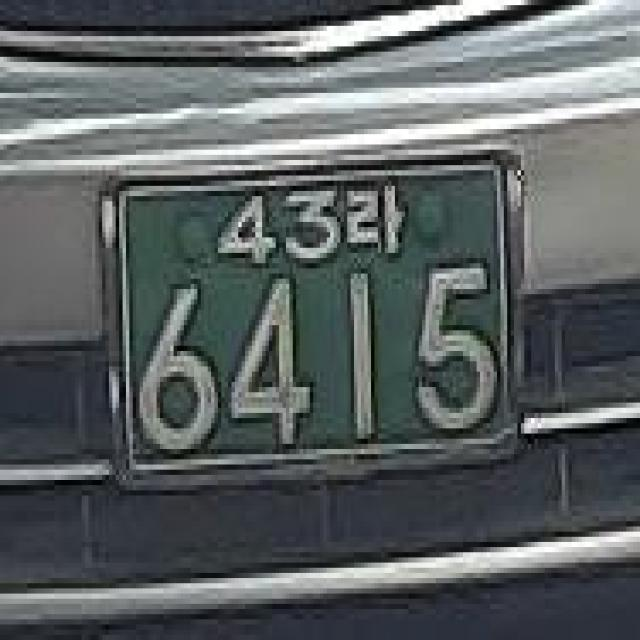illegal_plate: (89, 133, 543, 499)
